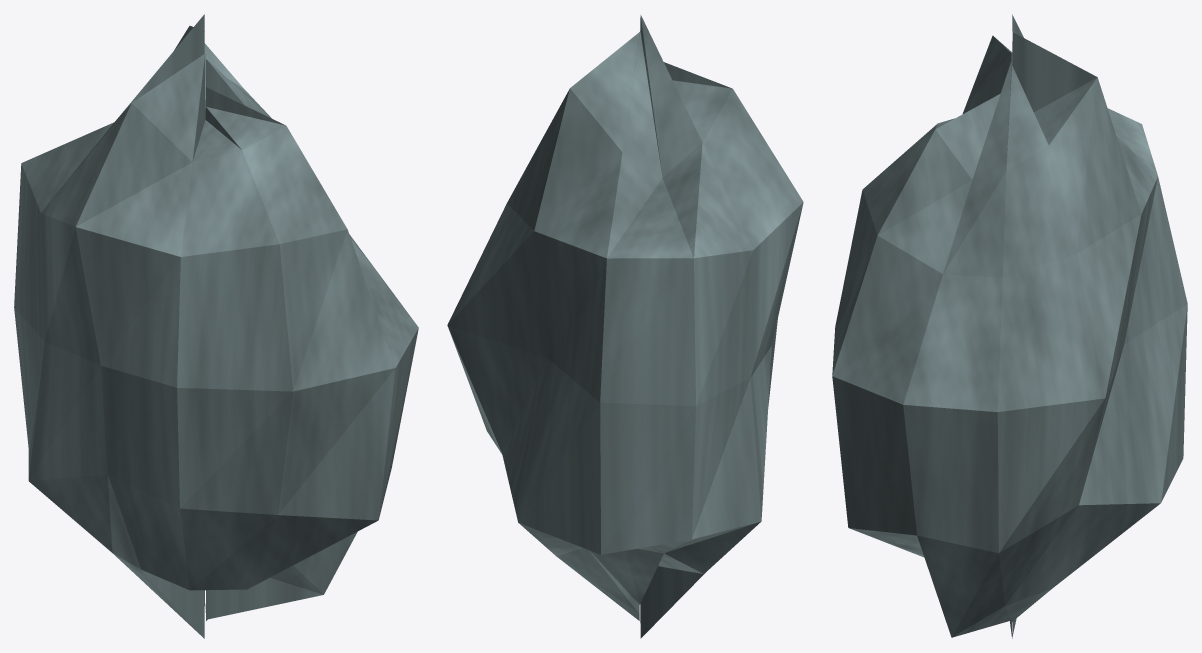
The model's file is cliff_formation_02.glb.
3 views of the same model, side by side, from view 1: azimuth 30°, elevation 25°; view 2: azimuth 150°, elevation 25°; view 3: azimuth 270°, elevation 25° (orthographic).
Visible parts, largest first — view 1: rock; view 2: rock; view 3: rock.
Part boxes in pixels (box(x1,y1,x2,y2)): rock: box(14, 14, 418, 638); rock: box(447, 15, 803, 638); rock: box(832, 14, 1187, 638).
Size of the model in its own units: 17.21 by 31.8 by 16.39.
Materials: 1 (1 with a texture image).
